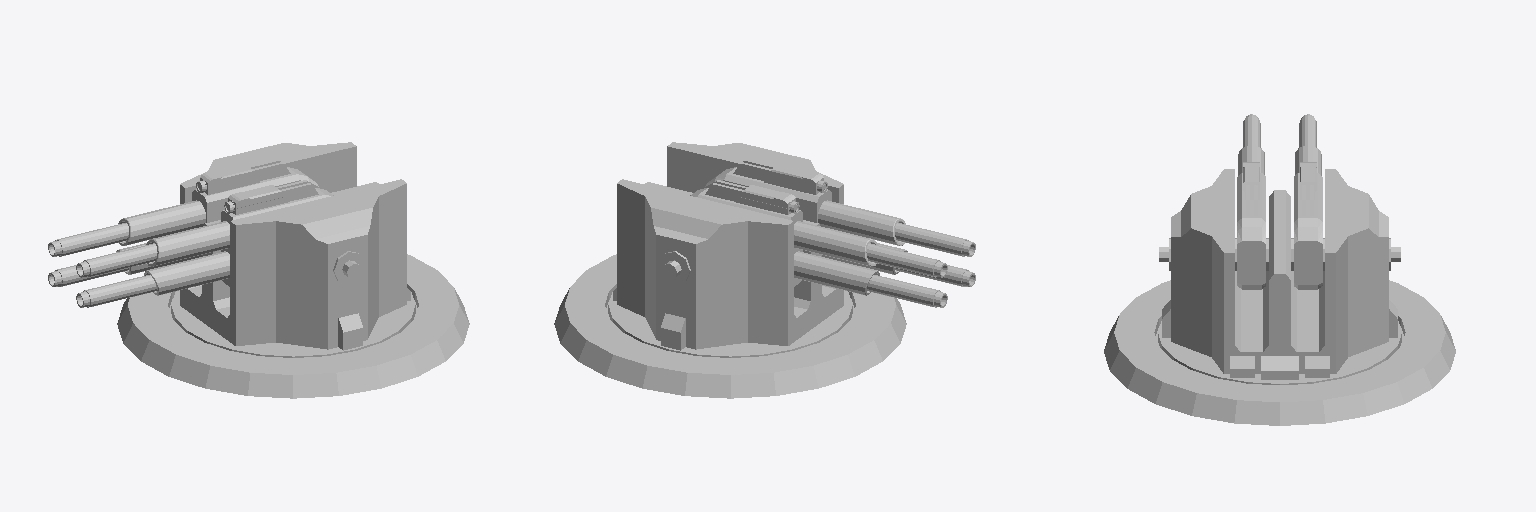
The model's file is turret.obj.
3 views of the same model, side by side, from view 1: azimuth 30°, elevation 25°; view 2: azimuth 150°, elevation 25°; view 3: azimuth 270°, elevation 25° (orthographic).
Parts seen in each view (by area): view 1: Sci_Fi_AA_Turret; view 2: Sci_Fi_AA_Turret; view 3: Sci_Fi_AA_Turret.
Part boxes in pixels (bbox=[...]): Sci_Fi_AA_Turret: bbox=[48, 142, 469, 398]; Sci_Fi_AA_Turret: bbox=[554, 142, 975, 398]; Sci_Fi_AA_Turret: bbox=[1104, 114, 1455, 425].
Bounding box in the file's own units: 34.06 × 13.24 × 27.36.